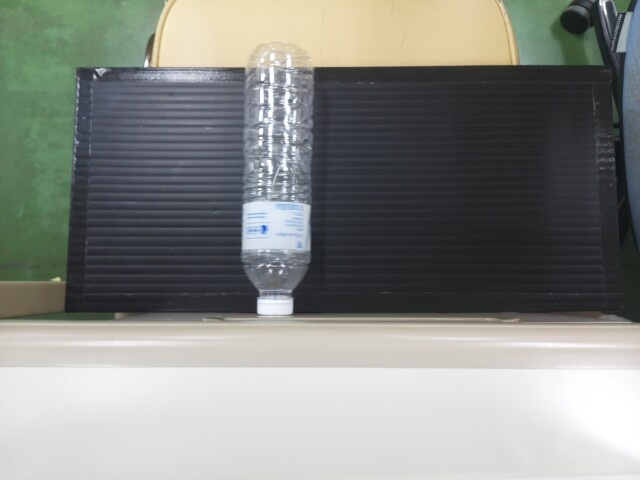plastic_bottle: (241, 44, 315, 306)
